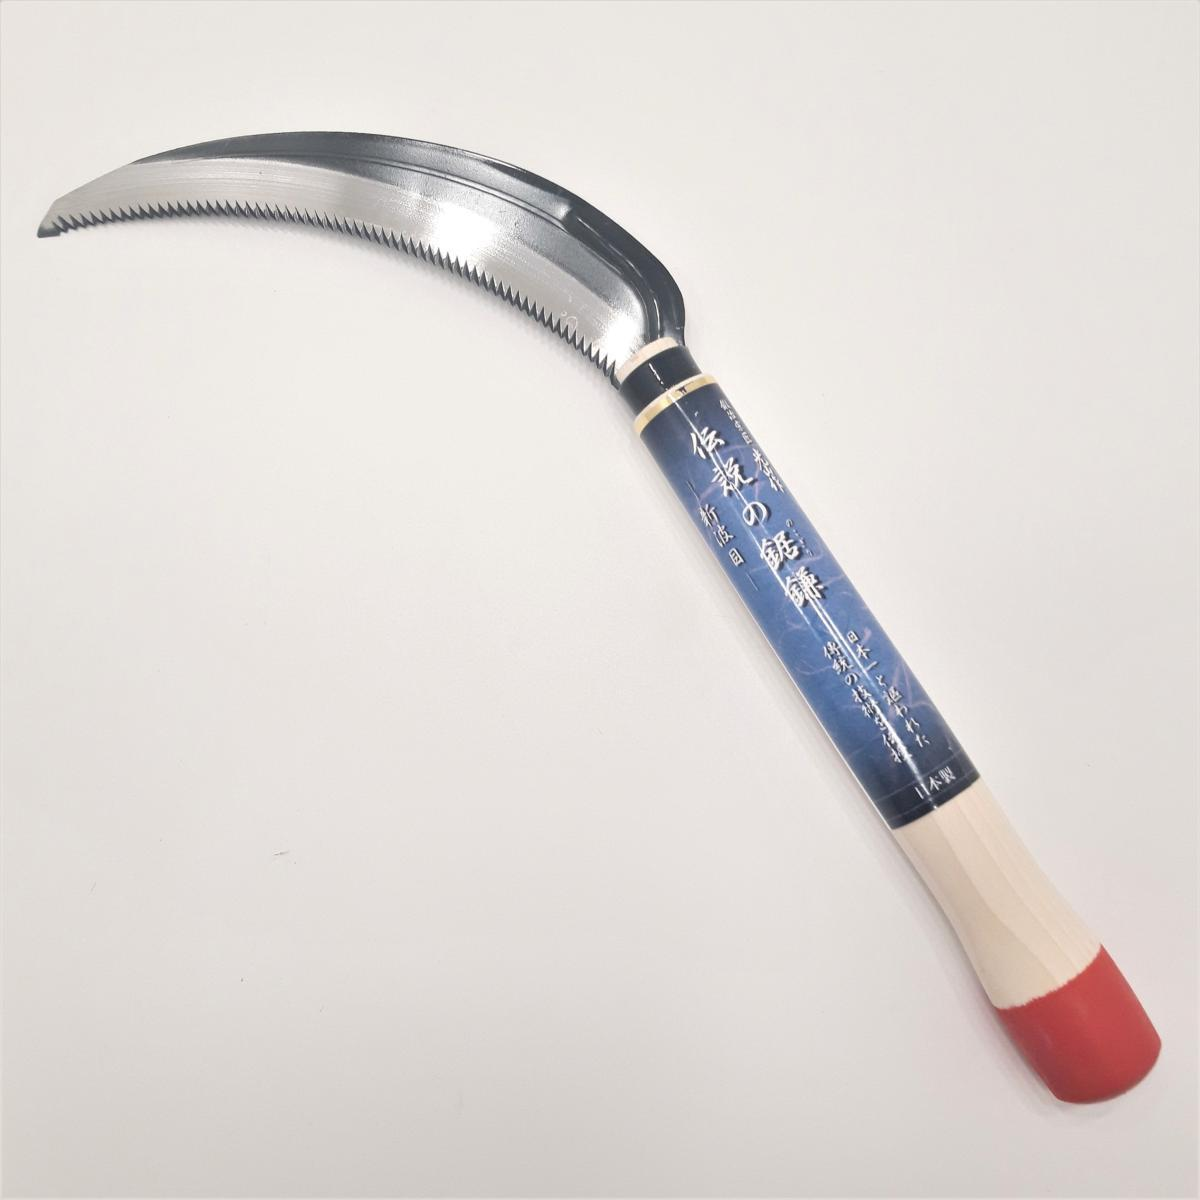foice: (38, 133, 1160, 1103)
